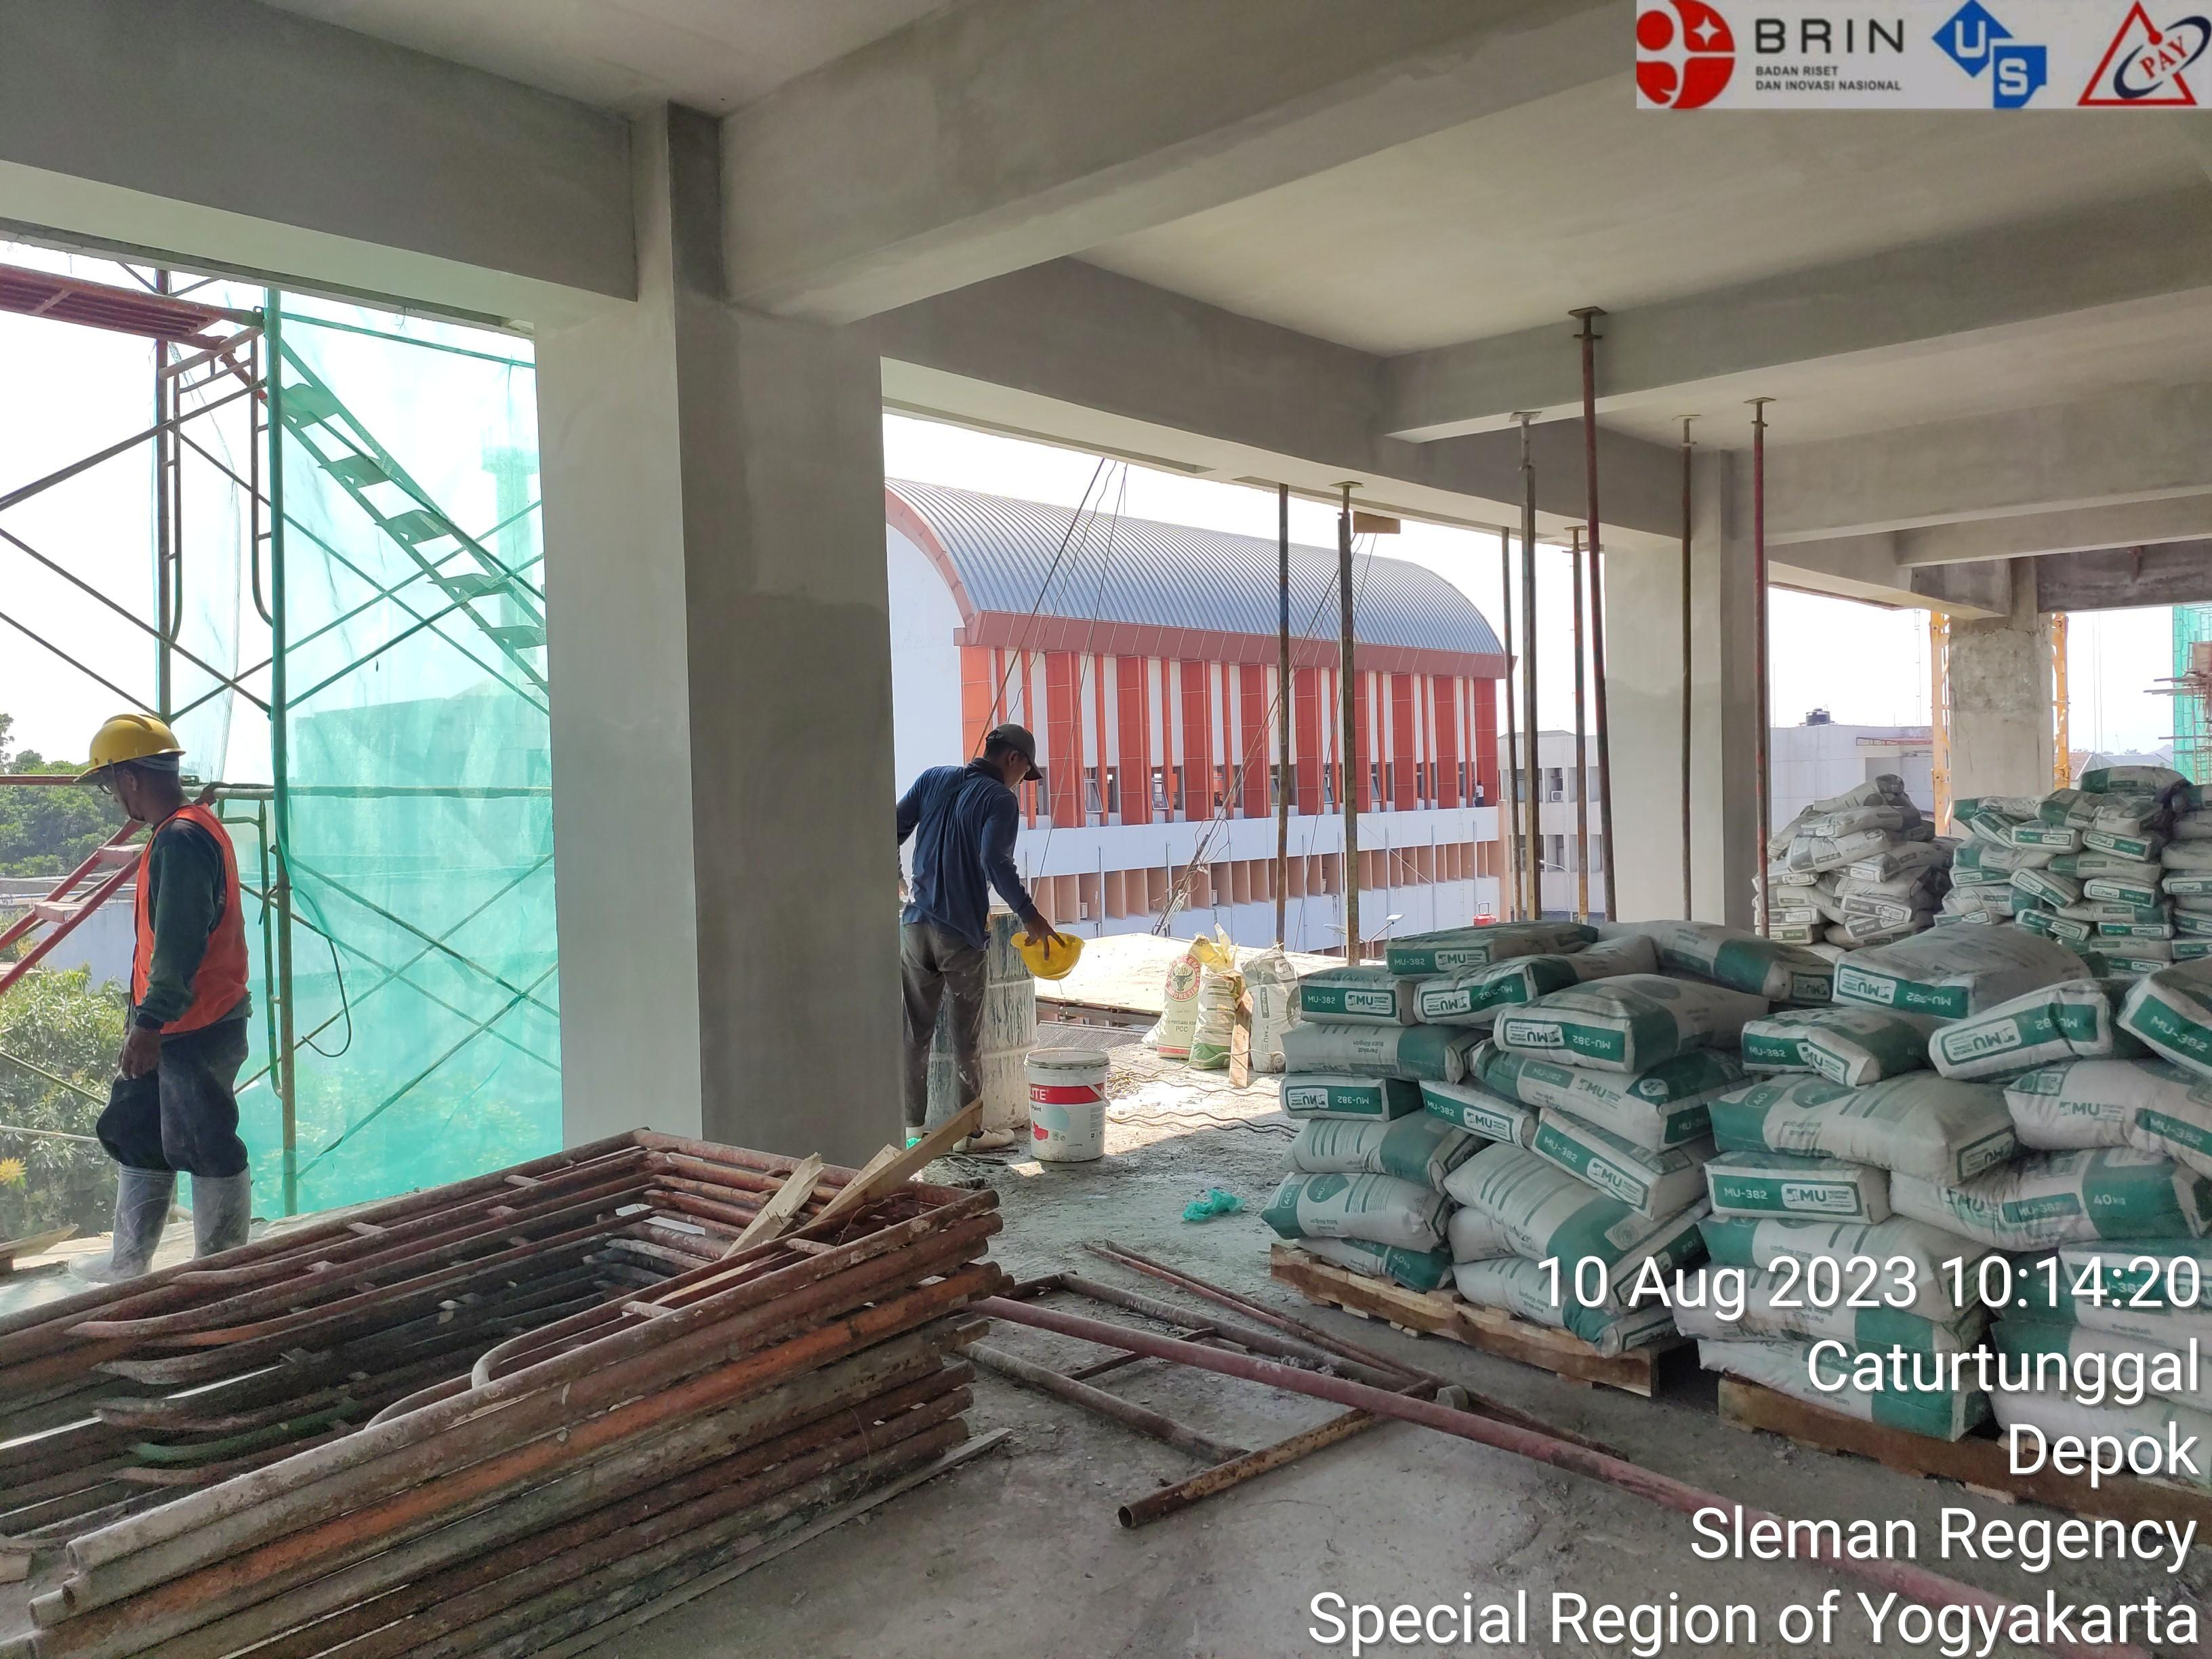hat: (68, 675, 197, 834)
no hat: (970, 678, 1068, 811)
no vest: (895, 773, 1024, 970)
vest: (96, 804, 279, 1099)
